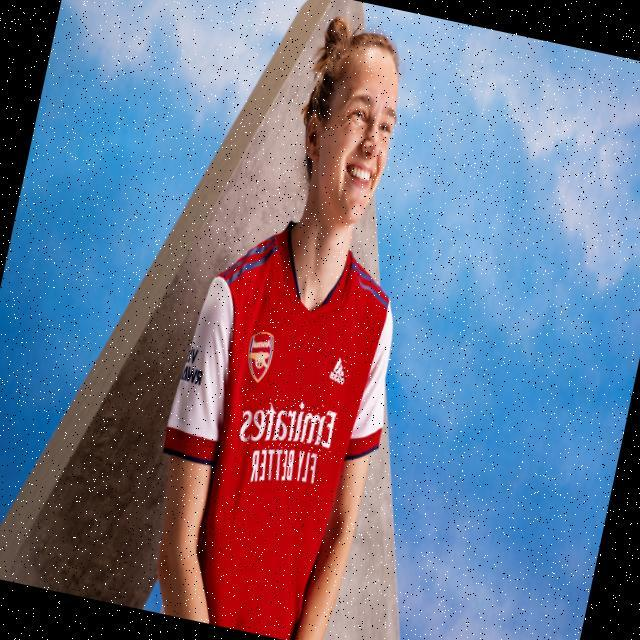Adidas: (327, 354, 350, 387)
Emirates: (235, 388, 340, 461)
